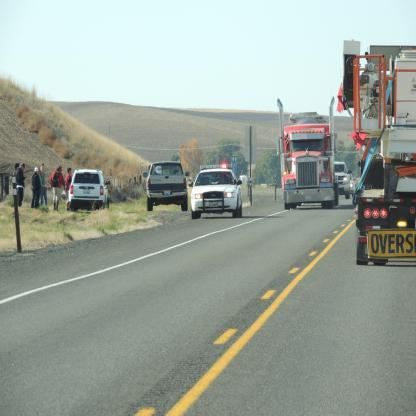truck: (278, 116, 341, 214)
